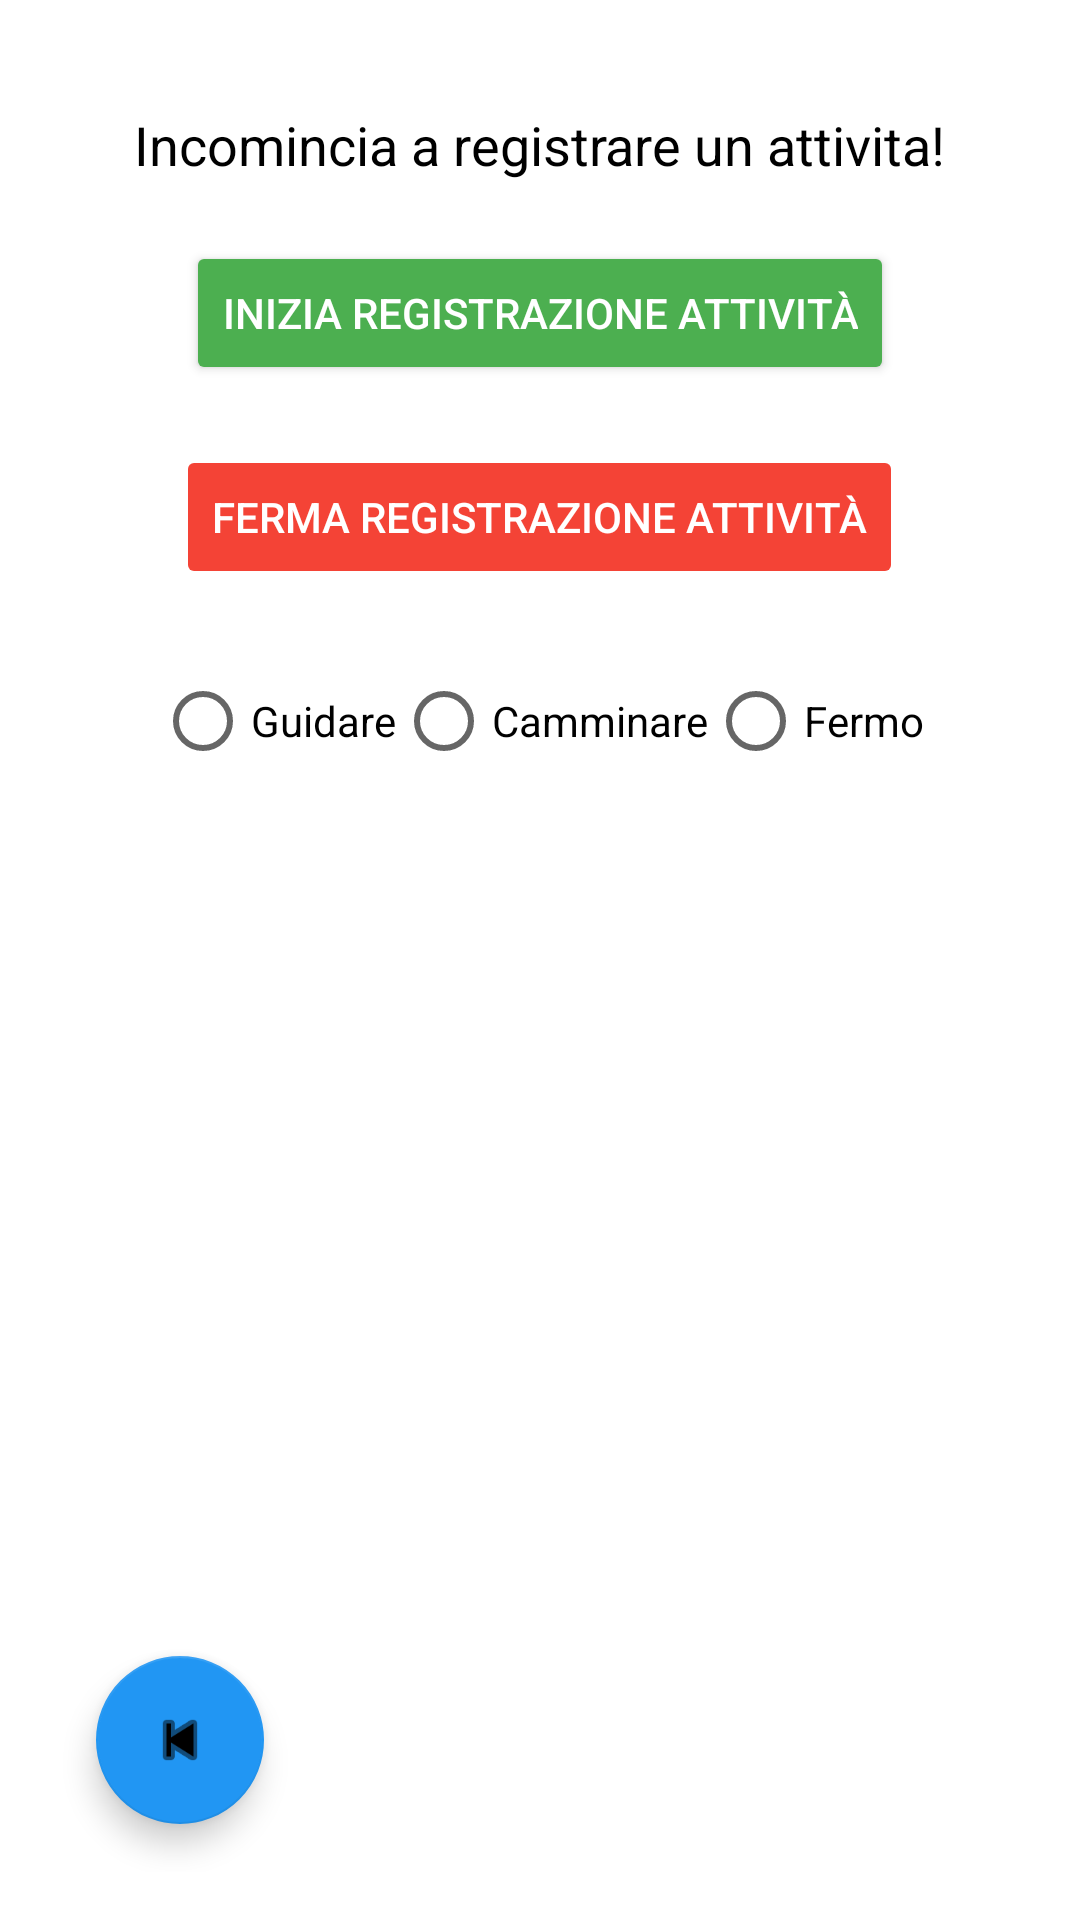

Icons on this 1080*1920 Android screen, each with its box as (x1, y1, x2, y2):
Back: (96, 1656, 264, 1824)
